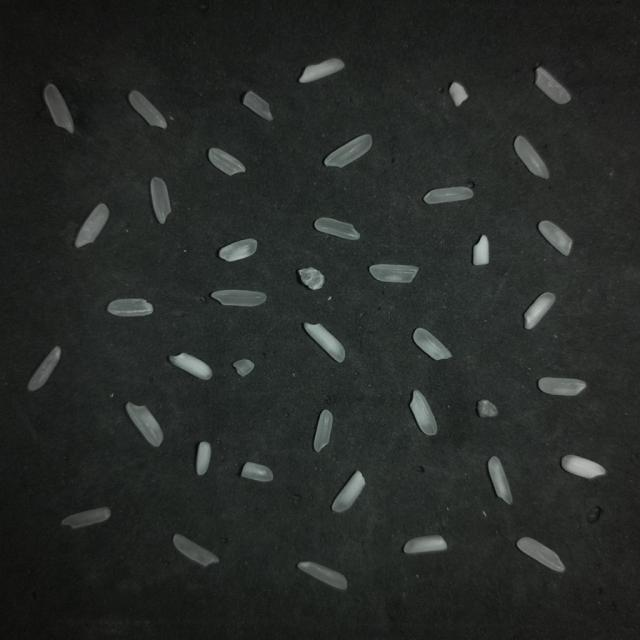broken: (243, 91, 273, 121), (241, 462, 273, 481), (233, 359, 254, 376)
chalky: (304, 323, 345, 362), (332, 471, 365, 512), (410, 390, 437, 435), (524, 292, 555, 329), (488, 457, 512, 504), (169, 353, 212, 379), (299, 59, 344, 83), (562, 455, 606, 479), (219, 239, 256, 261), (404, 535, 446, 553), (196, 441, 211, 475), (473, 235, 489, 265), (449, 82, 468, 106)
foreign: (298, 267, 324, 289), (477, 400, 498, 417)
whole: (517, 537, 564, 572), (126, 402, 163, 446), (324, 134, 371, 168), (514, 136, 549, 179), (44, 84, 74, 133), (75, 204, 109, 247), (28, 347, 61, 391), (129, 91, 167, 129), (174, 534, 219, 566), (298, 562, 347, 589), (536, 67, 569, 103), (413, 328, 451, 359), (539, 221, 572, 256), (62, 507, 111, 528), (208, 148, 245, 175), (314, 218, 359, 240), (150, 177, 171, 223), (369, 264, 418, 283), (538, 377, 586, 396), (211, 290, 266, 306), (424, 187, 473, 204), (314, 410, 333, 452), (107, 299, 153, 316)
